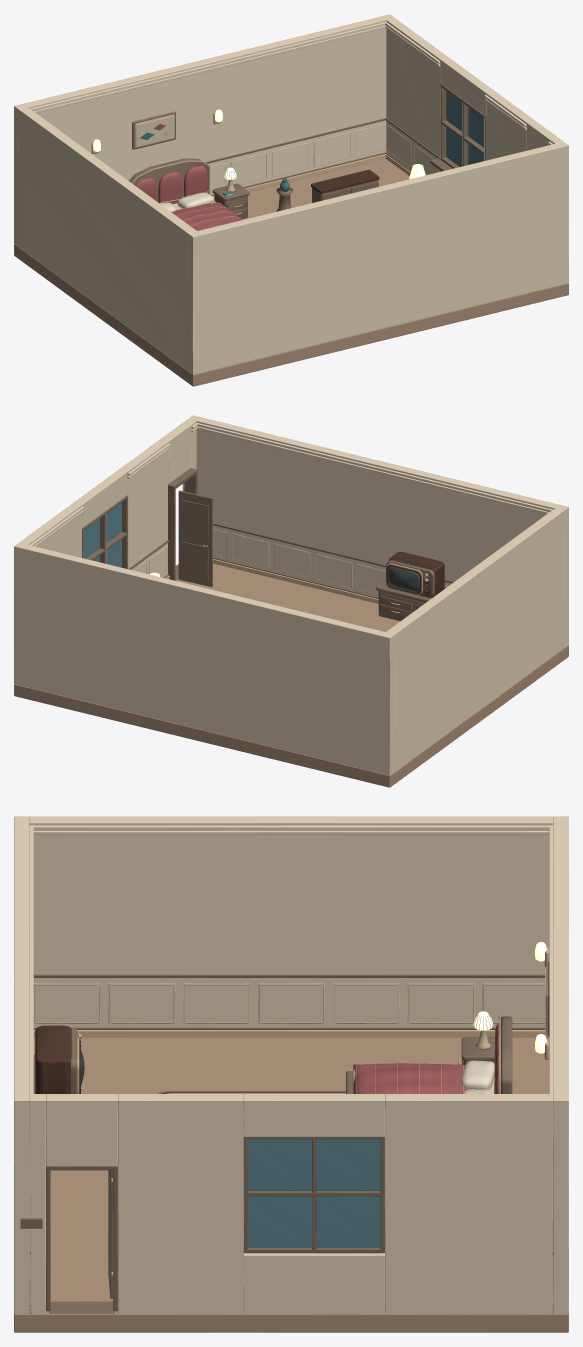
The model's file is HotelH03_FinalPolish.fbx.
3 views of the same model, one above another, from view 1: azimuth 30°, elevation 25°; view 2: azimuth 150°, elevation 25°; view 3: azimuth 270°, elevation 25° (orthographic). The views are drawn at different scales.
Parts seen in each view (by area): view 1: Continuous finished wall.001, Continuous finished wall, Continuous finished wall.002, Uniform foundation, Load-bearing doorway return, Load-bearing doorway return.001, Load-bearing doorway return.005, Continuous stepped wall trim.004, Sculpted quilt with dropped sides, Continuous stepped wall trim.003, Inset finished panel field.006, Inset finished panel field.007 (+14 smaller); view 2: Continuous finished wall, Continuous finished wall.001, Continuous finished wall.002, Uniform foundation, Load-bearing doorway return.001, Load-bearing doorway return, Load-bearing doorway return.005, Continuous stepped wall trim.024, Solid paneled walnut leaf, Load-bearing doorway return.003, Continuous stepped wall trim.023, Inset finished panel field.015 (+14 smaller); view 3: Continuous finished wall.002, Load-bearing doorway return, Load-bearing doorway return.001, Uniform foundation, Load-bearing doorway return.004, Continuous finished wall, Continuous finished wall.001, Load-bearing doorway return.005, Load-bearing doorway return.003, Load-bearing doorway return.002, Continuous stepped wall trim.025, Glazing panel (+31 smaller).
Boxes of the visible parts, x1=… form: Continuous finished wall.001: x1=188, y1=141, x2=568, y2=374; Continuous finished wall: x1=14, y1=14, x2=394, y2=246; Continuous finished wall.002: x1=19, y1=107, x2=195, y2=369; Uniform foundation: x1=14, y1=159, x2=568, y2=386; Load-bearing doorway return: x1=386, y1=18, x2=448, y2=171; Load-bearing doorway return.001: x1=486, y1=91, x2=534, y2=160; Load-bearing doorway return.005: x1=440, y1=58, x2=494, y2=116; Continuous stepped wall trim.004: x1=29, y1=22, x2=386, y2=111; Sculpted quilt with dropped sides: x1=171, y1=202, x2=242, y2=230; Continuous stepped wall trim.003: x1=34, y1=25, x2=385, y2=113; Inset finished panel field.006: x1=272, y1=142, x2=309, y2=177; Inset finished panel field.007: x1=313, y1=132, x2=350, y2=167; Continuous finished wall: x1=14, y1=542, x2=394, y2=775; Continuous finished wall.001: x1=188, y1=415, x2=568, y2=647; Continuous finished wall.002: x1=387, y1=508, x2=563, y2=771; Uniform foundation: x1=14, y1=563, x2=568, y2=787; Load-bearing doorway return.001: x1=119, y1=440, x2=167, y2=577; Load-bearing doorway return: x1=19, y1=503, x2=81, y2=557; Load-bearing doorway return.005: x1=73, y1=469, x2=127, y2=527; Continuous stepped wall trim.024: x1=197, y1=423, x2=553, y2=512; Solid paneled walnut leaf: x1=178, y1=490, x2=212, y2=586; Load-bearing doorway return.003: x1=160, y1=423, x2=191, y2=484; Continuous stepped wall trim.023: x1=197, y1=426, x2=548, y2=514; Inset finished panel field.015: x1=232, y1=533, x2=269, y2=568; Continuous finished wall.002: x1=29, y1=816, x2=553, y2=1027; Load-bearing doorway return: x1=385, y1=1094, x2=553, y2=1313; Load-bearing doorway return.001: x1=118, y1=1094, x2=243, y2=1313; Uniform foundation: x1=14, y1=1037, x2=568, y2=1332; Load-bearing doorway return.004: x1=243, y1=1253, x2=384, y2=1313; Continuous finished wall: x1=553, y1=816, x2=568, y2=1313; Continuous finished wall.001: x1=14, y1=816, x2=29, y2=1313; Load-bearing doorway return.005: x1=243, y1=1094, x2=384, y2=1136; Load-bearing doorway return.003: x1=46, y1=1094, x2=117, y2=1166; Load-bearing doorway return.002: x1=29, y1=1094, x2=45, y2=1313; Continuous stepped wall trim.025: x1=33, y1=1030, x2=548, y2=1037; Glazing panel: x1=316, y1=1196, x2=380, y2=1247.
Bounding box in the file's own units: 10.31 × 3.92 × 8.48.
